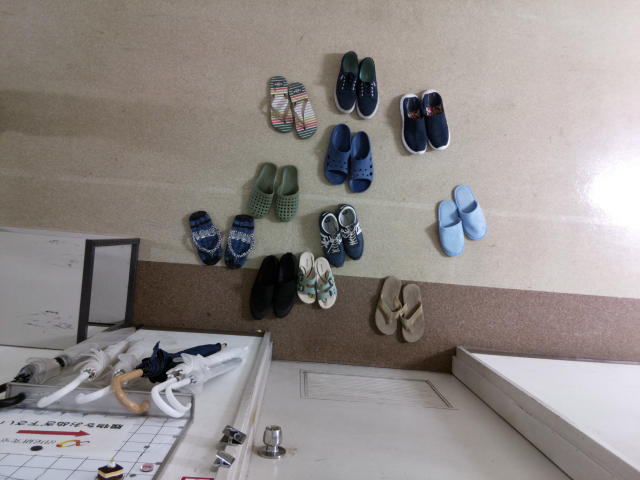Copy of Copy of Copy of Copy of Copy of Copy of Copy of Copy of Copy of Copy of: (246, 253, 282, 323), (267, 250, 301, 322), (218, 211, 256, 274), (184, 205, 222, 268), (242, 160, 280, 222), (286, 74, 321, 140), (263, 69, 297, 135), (314, 207, 347, 269), (333, 203, 365, 265), (271, 160, 301, 226), (292, 248, 322, 308), (309, 253, 339, 312)
Copy of Copy of Copy of Copy of Copy of Copy of Copy of Copy of Copy of shoe: (328, 47, 363, 113)
Copy of Copy of Copy of Copy of Copy of Copy of Copy of Copy of shoe: (348, 54, 383, 120)
Copy of Copy of Copy of Copy of Copy of Copy of Copy of shoe: (395, 91, 430, 157)
Copy of Copy of Copy of Copy of Copy of Copy of shoe: (420, 87, 455, 153)
Copy of Copy of Copy of Copy of Copy of shoe: (321, 122, 355, 188)
Copy of Copy of Copy of Copy of shoe: (345, 126, 379, 193)
Copy of Copy of Copy of shoe: (369, 272, 404, 338)
Copy of Copy of shoe: (395, 280, 430, 346)
Copy of shoe: (431, 197, 473, 260)
shoe: (450, 180, 491, 244)
